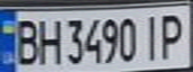0: (118, 14, 142, 63)
3: (63, 15, 84, 65)
4: (81, 15, 103, 65)
9: (100, 15, 121, 64)
B: (9, 15, 42, 66)
H: (33, 15, 63, 65)
I: (139, 11, 166, 62)
P: (157, 9, 190, 61)
